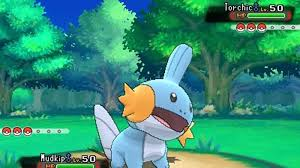mudkip: (89, 39, 201, 168)
